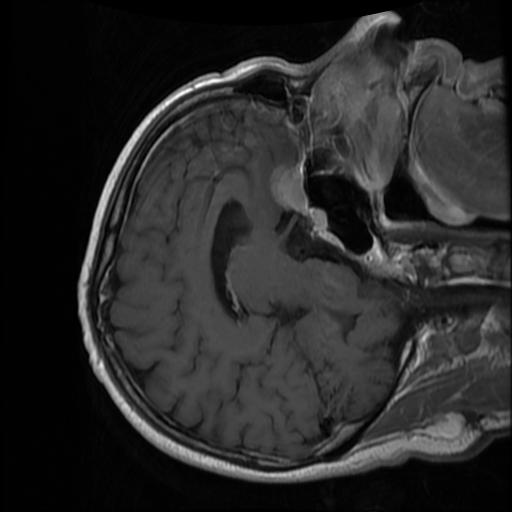meningioma: (269, 162, 307, 215)
